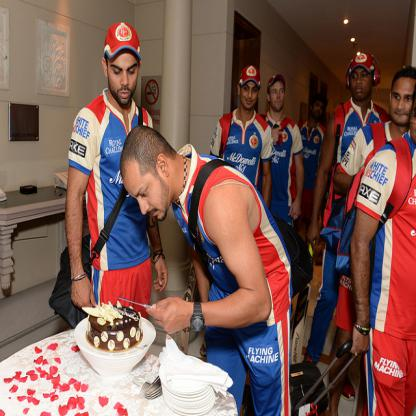backpack: (335, 136, 412, 278), (271, 214, 313, 299), (333, 104, 389, 166), (323, 162, 344, 257), (218, 109, 233, 159), (368, 123, 386, 149), (297, 118, 303, 131)
handbag: (48, 185, 129, 329)
suitcase: (289, 363, 329, 416)
